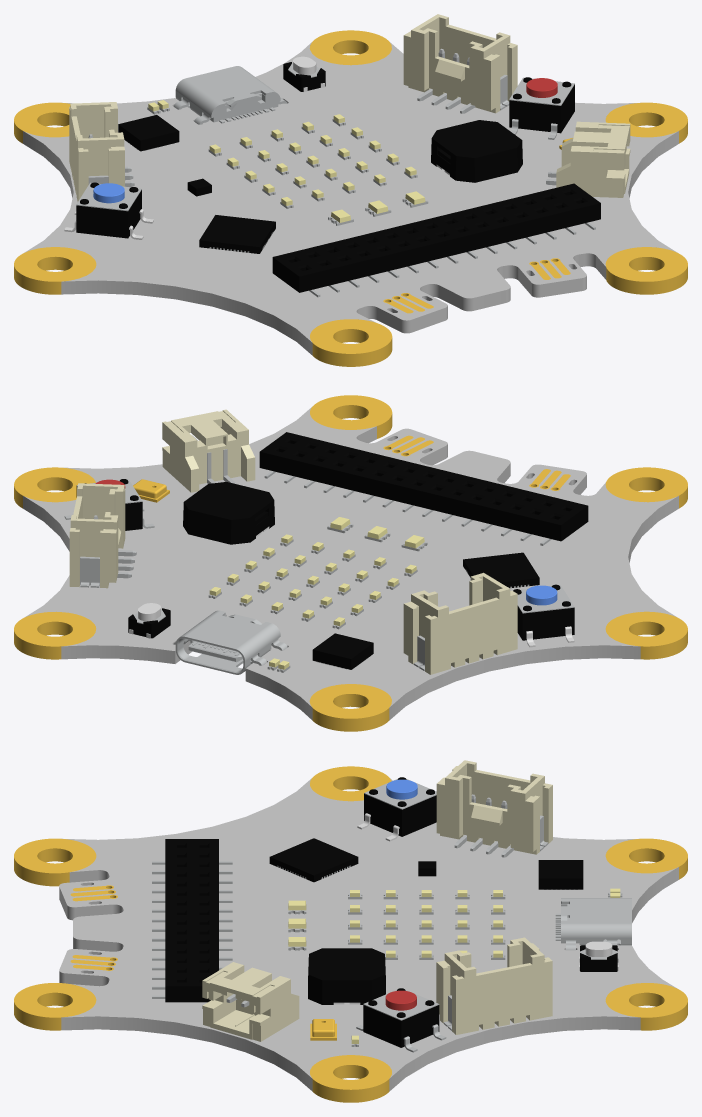
3 renders of one model, top to bottom at view 1: azimuth 30°, elevation 25°; view 2: azimuth 150°, elevation 25°; view 3: azimuth 270°, elevation 25°, orthographic.
Visible parts, largest first — view 1: Body70, Body1.032, Body4.002, Body1.031, Body1.037, Body4.001, Body9.007, Body7.006, Body1.033, Body10.005, Body8.006, Body1.029 (+11 smaller); view 2: Body70, Body1.032, Body4.001, Body1.031, Body4.002, Body1.037, Body1.033, Body11.005, Body10.005, Body8.006, Body9.007, Body7.006 (+11 smaller); view 3: Body70, Body1.032, Body4.001, Body4.002, Body1.031, Body1.037, Body1.033, Body6.006, Body7.006, Body9.007, Body8.006, Body11.005 (+11 smaller).
Part boxes in pixels (box(x1,y1,x2,y2)): Body70: box(23, 42, 678, 355); Body1.032: box(272, 183, 600, 292); Body4.002: box(403, 14, 517, 113); Body1.031: box(556, 121, 630, 197); Body1.037: box(431, 120, 522, 182); Body4.001: box(69, 102, 124, 201); Body9.007: box(605, 247, 687, 294); Body7.006: box(310, 319, 392, 366); Body1.033: box(173, 66, 287, 124); Body10.005: box(14, 247, 96, 294); Body8.006: box(309, 30, 391, 65); Body1.029: box(199, 215, 275, 253); Body70: box(23, 406, 678, 720); Body1.032: box(259, 432, 588, 541); Body4.001: box(403, 572, 517, 674); Body1.031: box(162, 409, 255, 492); Body4.002: box(69, 483, 125, 588); Body1.037: box(183, 482, 274, 544); Body1.033: box(173, 610, 287, 674); Body11.005: box(309, 684, 391, 731); Body10.005: box(605, 611, 687, 659); Body8.006: box(14, 611, 96, 659); Body9.007: box(310, 395, 392, 438); Body7.006: box(605, 467, 687, 508); Body70: box(59, 778, 678, 1091); Body1.032: box(165, 839, 218, 1002); Body4.001: box(436, 760, 552, 854); Body4.002: box(436, 937, 552, 1034); Body1.031: box(202, 962, 299, 1041); Body1.037: box(308, 948, 385, 1004); Body1.033: box(561, 898, 631, 950); Body6.006: box(310, 1055, 391, 1102); Body7.006: box(14, 838, 96, 886); Body9.007: box(14, 983, 96, 1030); Body8.006: box(605, 983, 687, 1030); Body11.005: box(605, 838, 687, 879).
Bounding box in the file's own units: 85.5 × 9.3 × 75.3.
